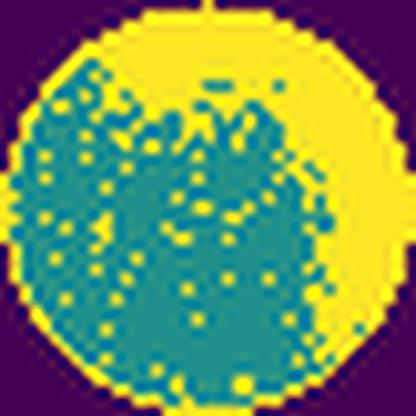Edge-Loc: (78, 0, 416, 366)
